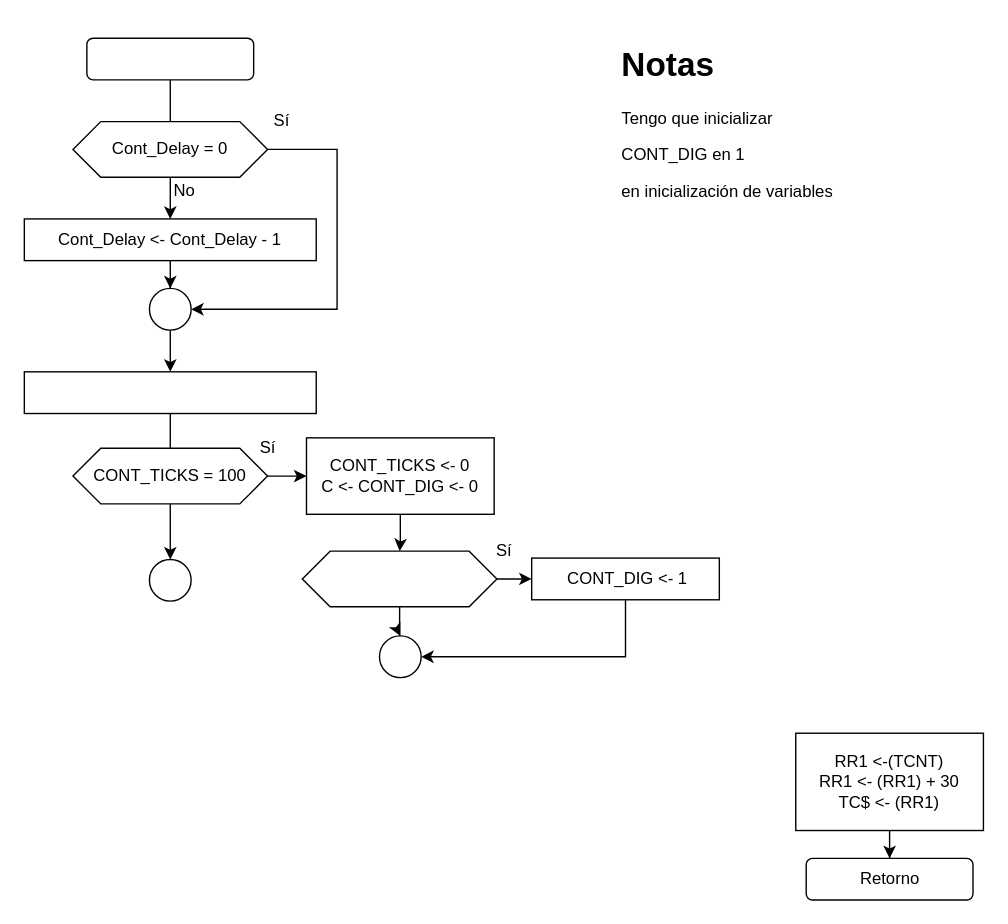
The diagram is 1008 pixels wide and 924 high, and some of its shapes have lost their labels. Each missing label, with the centre of its shape:
CONT_DIG = $80: the point at 399,578
CONT_TICKS <- CONT_TICKS +1: the point at 169,392
OC4_ISR: the point at 169,58
